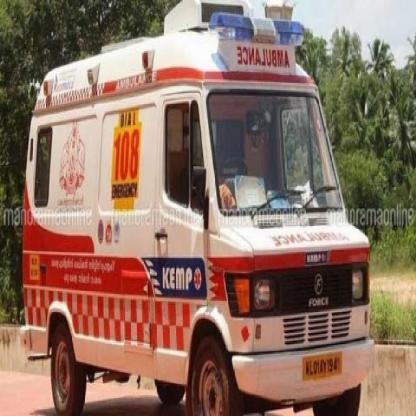priority: (22, 0, 374, 416)
